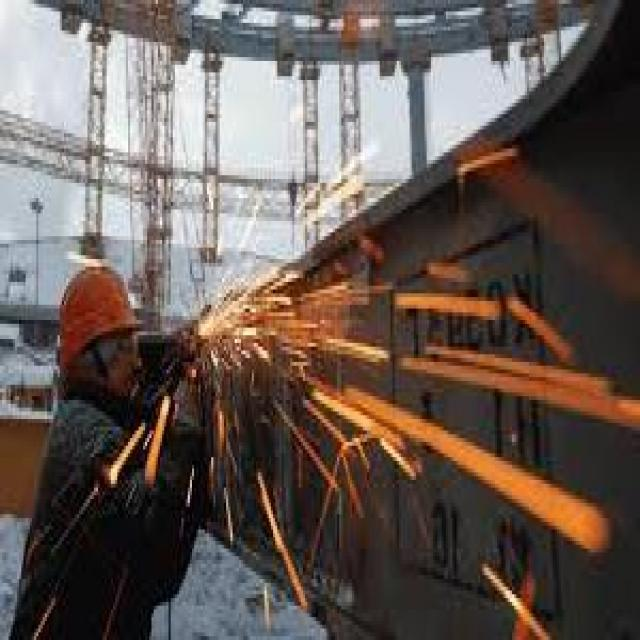Safety-Helmet: (40, 244, 154, 385)
